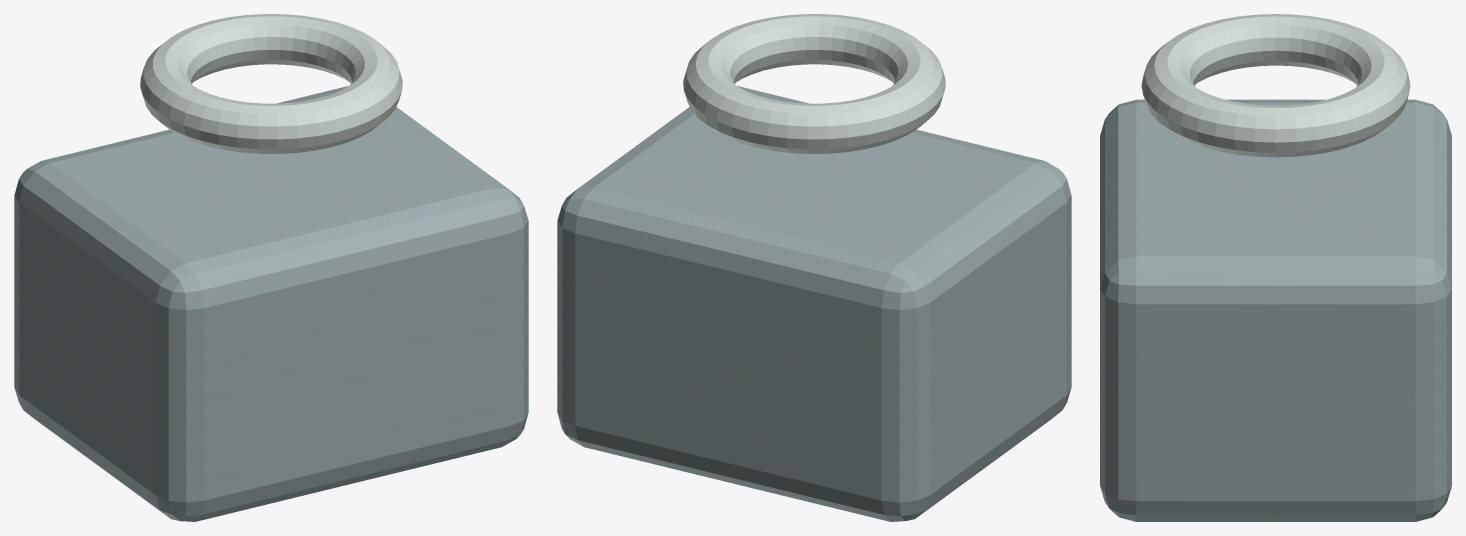
File: weight.glb
3 views of the same model, side by side, from view 1: azimuth 30°, elevation 25°; view 2: azimuth 150°, elevation 25°; view 3: azimuth 270°, elevation 25° (orthographic). The views are drawn at different scales.
Parts seen in each view (by area): view 1: Weight_Block, Weight_Handle; view 2: Weight_Block, Weight_Handle; view 3: Weight_Block, Weight_Handle.
Part boxes in pixels (left/top/right/bottom): Weight_Block: left=14, top=86, right=528, bottom=521; Weight_Handle: left=140, top=14, right=402, bottom=153; Weight_Block: left=557, top=86, right=1071, bottom=521; Weight_Handle: left=683, top=14, right=945, bottom=153; Weight_Block: left=1100, top=99, right=1451, bottom=521; Weight_Handle: left=1141, top=14, right=1410, bottom=157.
Bounding box in the file's own units: 0.42 × 0.405 × 0.34.
2 materials, 2 textured.
